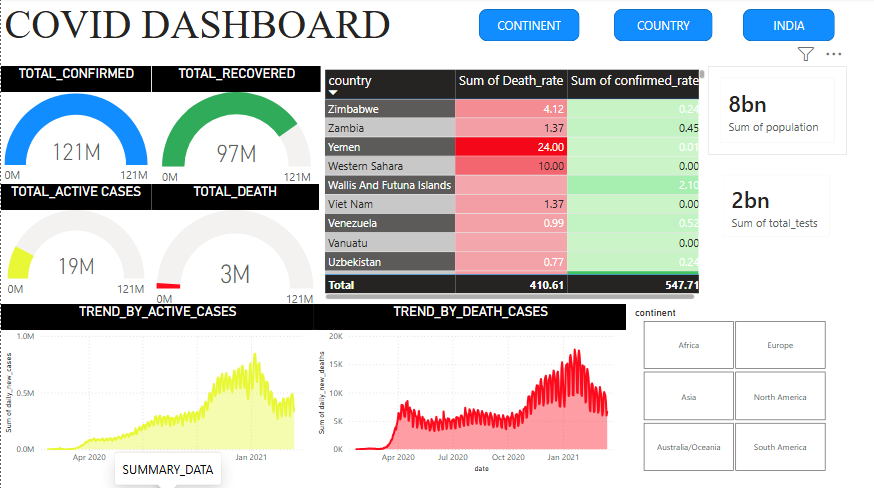

The dashboard page shown, as its layout file describes it:
{"tool":"powerbi","page":{"name":"SUMMARY_DATA","canvas":[1280,720],"ordinal":0},"visuals":[{"type":"gauge","title":"TOTAL_CONFIRMED","fields":{"Y":["Sum(summary_data.total_confirmed)"],"MaxValue":["Sum(summary_data.total_confirmed)"]},"box":[0,100,219.5,182.9],"z":0},{"type":"gauge","title":"TOTAL_RECOVERED","fields":{"MaxValue":["Sum(summary_data.total_confirmed)"],"Y":["Sum(summary_data.total_recovered)"]},"box":[221.4,100,247.3,182.9],"z":1000},{"type":"gauge","title":"TOTAL_DEATH","fields":{"MaxValue":["Sum(summary_data.total_confirmed)"],"Y":["Sum(summary_data.total_deaths)"]},"box":[220,272.9,245.9,188.8],"z":2000},{"type":"gauge","title":"TOTAL_ACTIVE CASES","fields":{"MaxValue":["Sum(summary_data.total_confirmed)"],"Y":["Sum(summary_data.active_cases)"]},"box":[0,272.9,219.5,174.1],"z":3000},{"type":"tableEx","fields":{"Values":["summary_data.country","Sum(summary_data.Death_rate)","Sum(summary_data.confirmed_rate)"]},"box":[468.6,100,567.1,347.1],"z":4000},{"type":"actionButton","box":[0,0,100,40],"z":5000},{"type":"areaChart","title":"TREND_BY_ACTIVE_CASES","fields":{"Y":["Sum(daily_data.daily_new_cases)"],"Category":["daily_data.date"]},"box":[0,447.1,458,251.7],"z":6000},{"type":"areaChart","title":"TREND_BY_DEATH_CASES","fields":{"Category":["daily_data.date"],"Y":["Sum(daily_data.daily_new_deaths)"]},"box":[458.6,447.1,458,251.7],"z":7000},{"type":"cardVisual","fields":{"Data":["Sum(summary_data.population)"]},"box":[1034.3,100,203.4,130.2],"z":8000},{"type":"slicer","fields":{"Values":["summary_data.continent"]},"box":[914.3,447.1,315.7,251.4],"z":9000},{"type":"cardVisual","fields":{"Data":["Sum(summary_data.total_tests)"]},"box":[1038.6,241.4,191.7,125.9],"z":10000},{"type":"textbox","box":[21.4,0,641.4,94.3],"z":11000},{"type":"shape","box":[700,15.7,147.1,47.1],"z":12000},{"type":"shape","box":[897.1,15.7,144.3,47.1],"z":13000},{"type":"shape","box":[1085.7,15.7,134.3,47.1],"z":14000}]}

Visuals, with their boxes in screenshot pixels (x1, y1, x2, y2), scaled from the page's 1280x720 canvas onto the 874x488 screenshot:
"TOTAL_CONFIRMED" gauge: (0, 68, 150, 192)
"TOTAL_RECOVERED" gauge: (151, 68, 320, 192)
"TOTAL_DEATH" gauge: (150, 185, 318, 313)
"TOTAL_ACTIVE CASES" gauge: (0, 185, 150, 303)
tableEx - summary_data.country x Sum(summary_data.Death_rate): (320, 68, 707, 303)
actionButton: (0, 0, 68, 27)
"TREND_BY_ACTIVE_CASES" areaChart: (0, 303, 313, 474)
"TREND_BY_DEATH_CASES" areaChart: (313, 303, 626, 474)
cardVisual - Sum(summary_data.population): (706, 68, 845, 156)
slicer - summary_data.continent: (624, 303, 840, 473)
cardVisual - Sum(summary_data.total_tests): (709, 164, 840, 249)
textbox: (15, 0, 453, 64)
shape: (478, 11, 578, 43)
shape: (613, 11, 711, 43)
shape: (741, 11, 833, 43)
